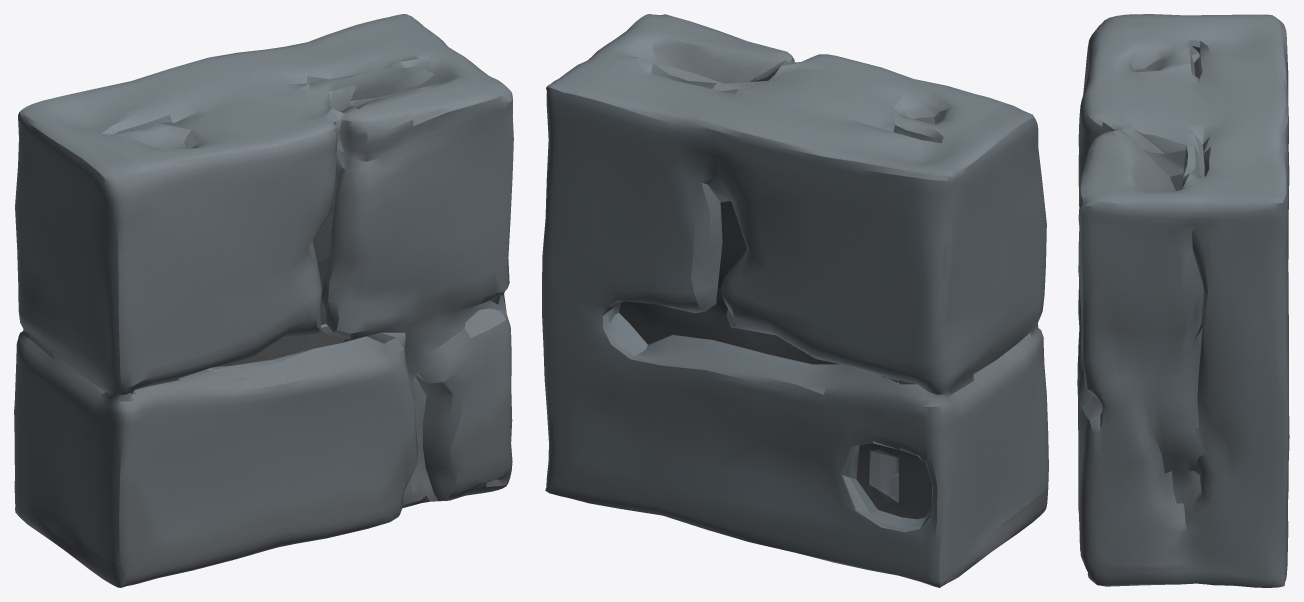
Rendered from brick_std_cinder.glb.
3 views of the same model, side by side, from view 1: azimuth 30°, elevation 25°; view 2: azimuth 150°, elevation 25°; view 3: azimuth 270°, elevation 25° (orthographic). The views are drawn at different scales.
Parts seen in each view (by area): view 1: Mesh_0; view 2: Mesh_0; view 3: Mesh_0.
Boxes of the visible parts, x1=… form: Mesh_0: x1=14, y1=14, x2=513, y2=587; Mesh_0: x1=542, y1=14, x2=1048, y2=587; Mesh_0: x1=1077, y1=14, x2=1289, y2=587.
Size of the model in its own units: 1.9 by 1.84 by 0.904.
Materials: 1 (1 with a texture image).
